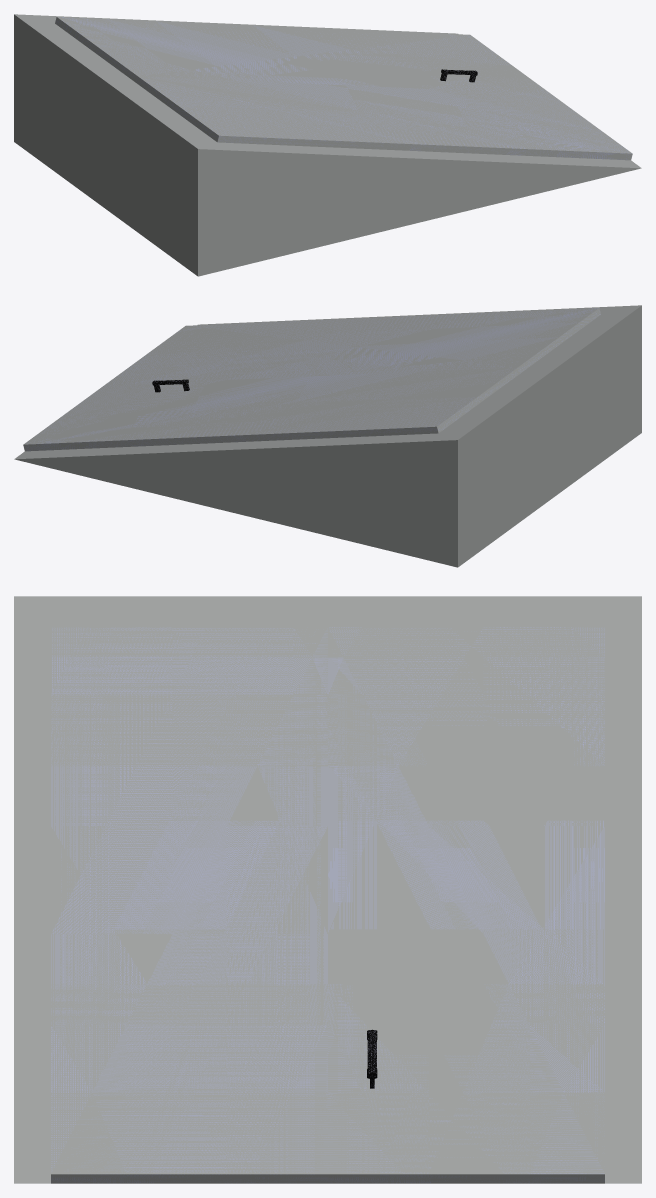
Rendered from cellar_door.fbx.
The picture shows the model from 3 angles, top to bottom: view 1: azimuth 30°, elevation 25°; view 2: azimuth 150°, elevation 25°; view 3: azimuth 270°, elevation 25°; orthographic projection. The views are drawn at different scales.
Visible parts, largest first — view 1: Group2, Group1; view 2: Group2, Group1; view 3: Group1, Group2.
Part boxes in pixels (x1,y1,x2,y2): Group2: [14, 14, 641, 276]; Group1: [55, 17, 632, 160]; Group2: [14, 305, 641, 567]; Group1: [23, 308, 600, 451]; Group1: [51, 627, 604, 1183]; Group2: [14, 596, 641, 1183].
Bounding box in the file's own units: 1.81 × 0.4953 × 1.3.
